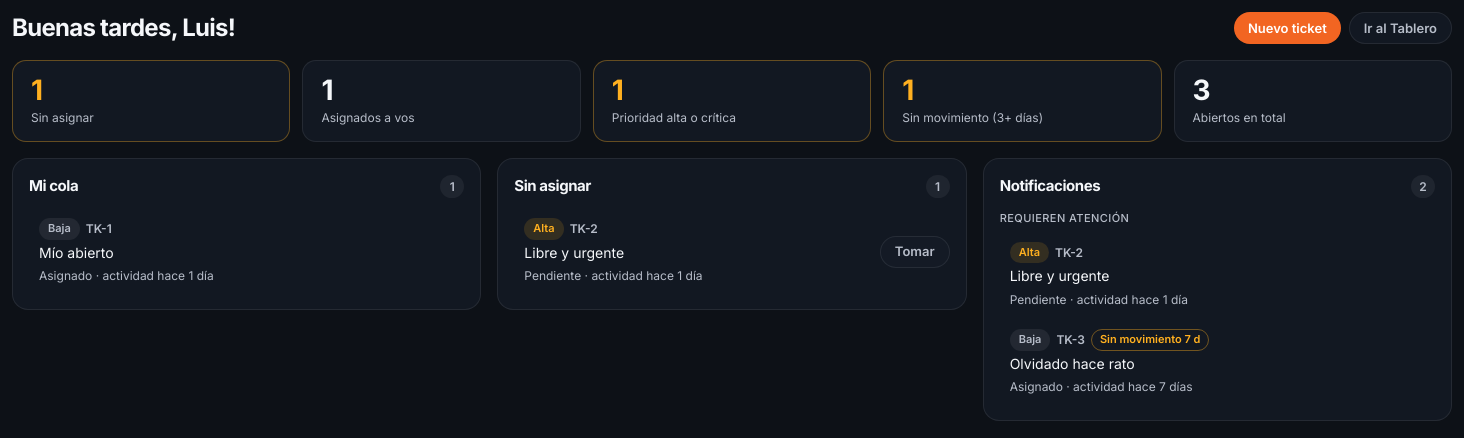
it: Novedades › Tomar asigna el ticket al técnico y recarga las listas
The width and height of the screenshot is (1464, 438).
Expected: the heading "Buenas tardes, Luis!" is shown, [12, 15, 235, 41]
Click the button with aria-label "Tomar TK-2" at (915, 252), box [880, 236, 950, 268]
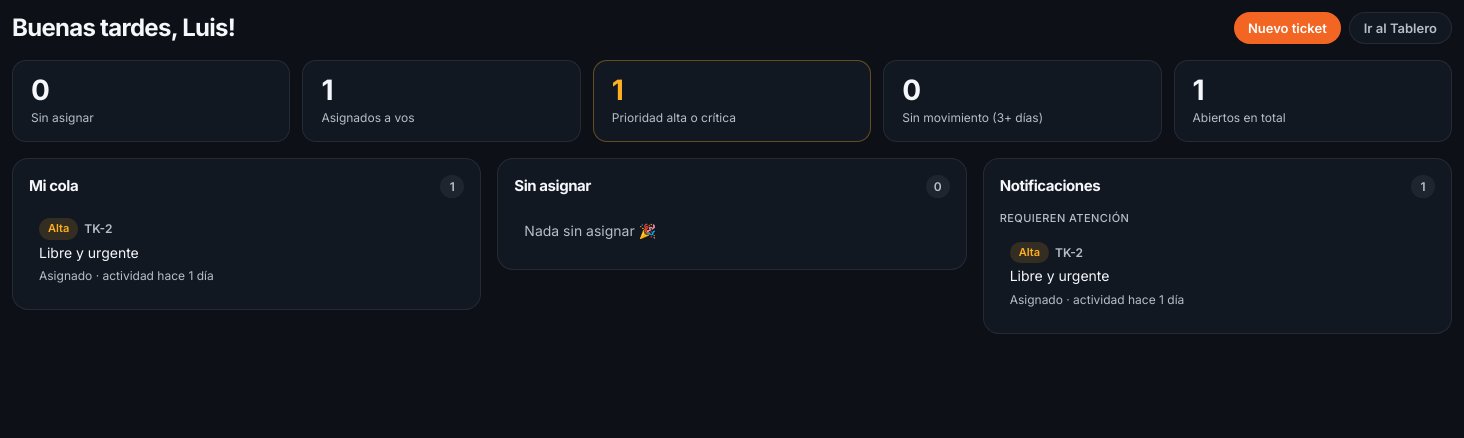
Expected: the text "Libre y urgente" below "Mi cola" is shown, [39, 244, 139, 261]
Now the list item "Nada sin asignar 🎉" is shown, box [524, 222, 656, 239]
